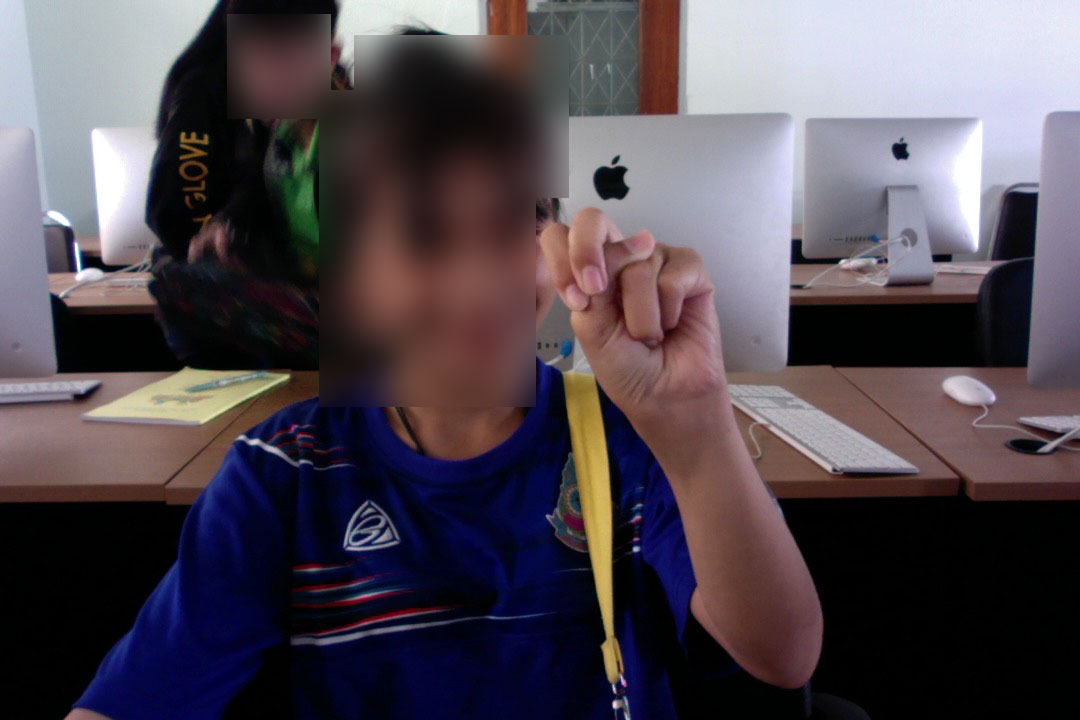nor: (535, 200, 733, 430)
